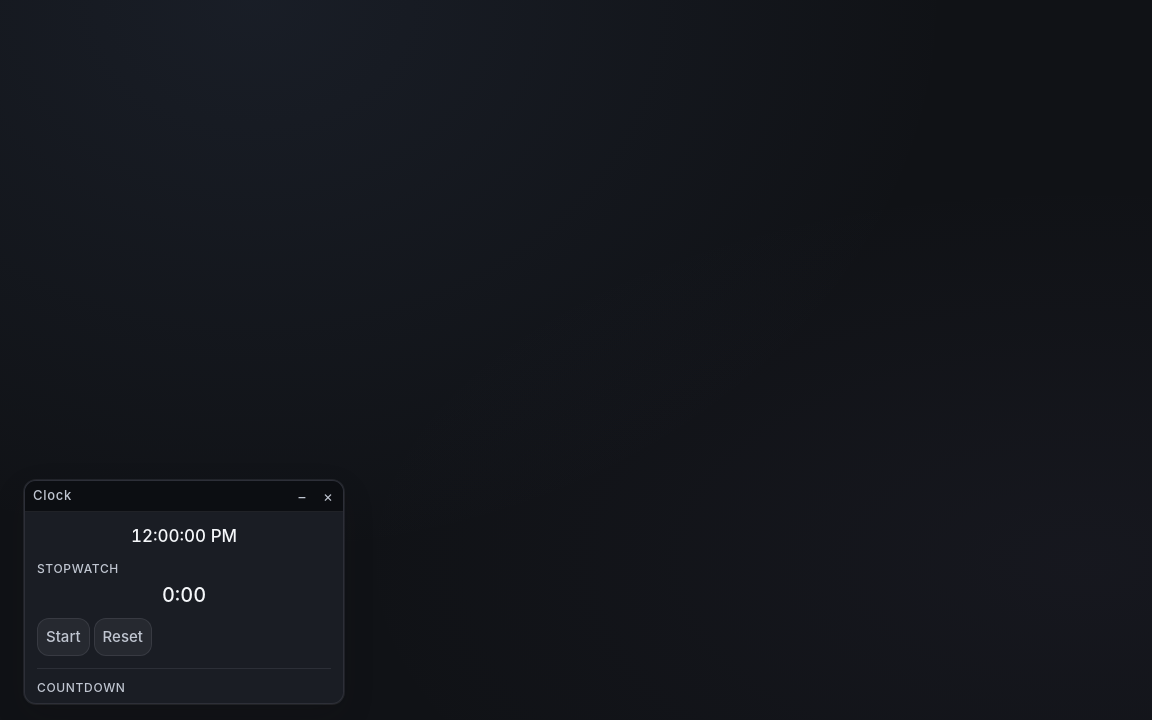
Test: ClockPanel — stopwatch › Start counts up, Pause freezes, Reset zeroes
The image size is (1152, 720).
Step 1. Click the button "Start" → click(63, 637), box [37,618,90,656]
Wait 5000 ms
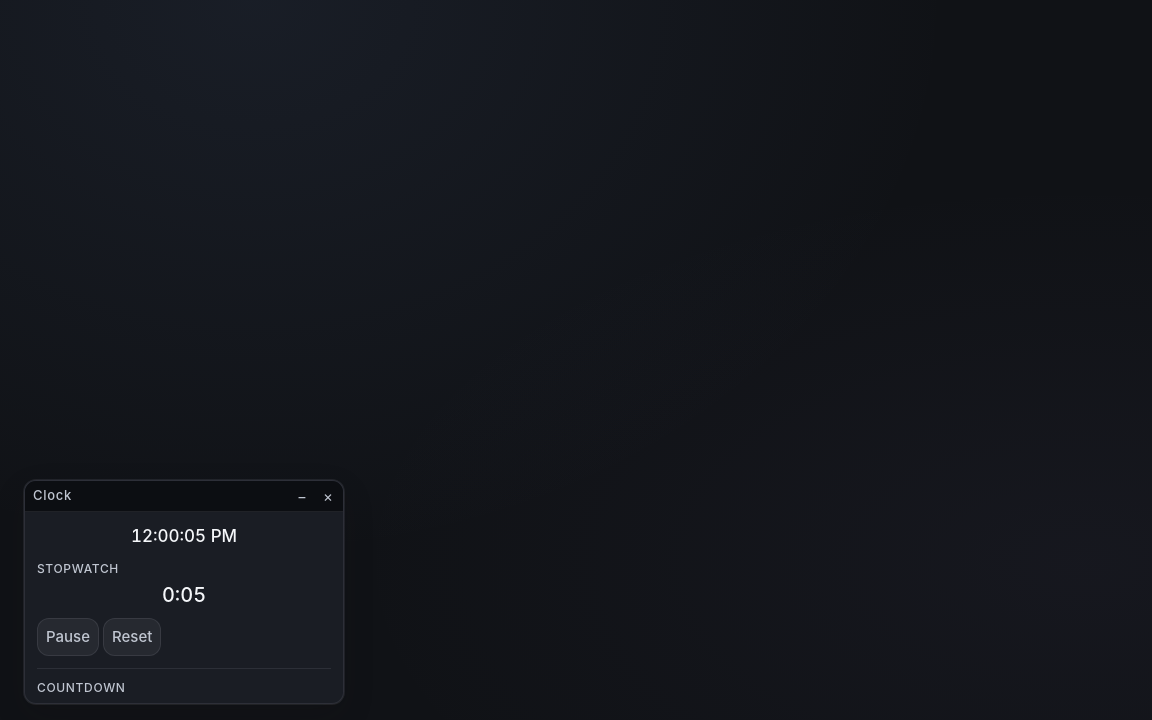
Expected: the text "0:05" is shown, [162,583,206,607]
Step 2. Click the button "Pause" → click(68, 637), box [37,618,99,656]
Wait 5000 ms
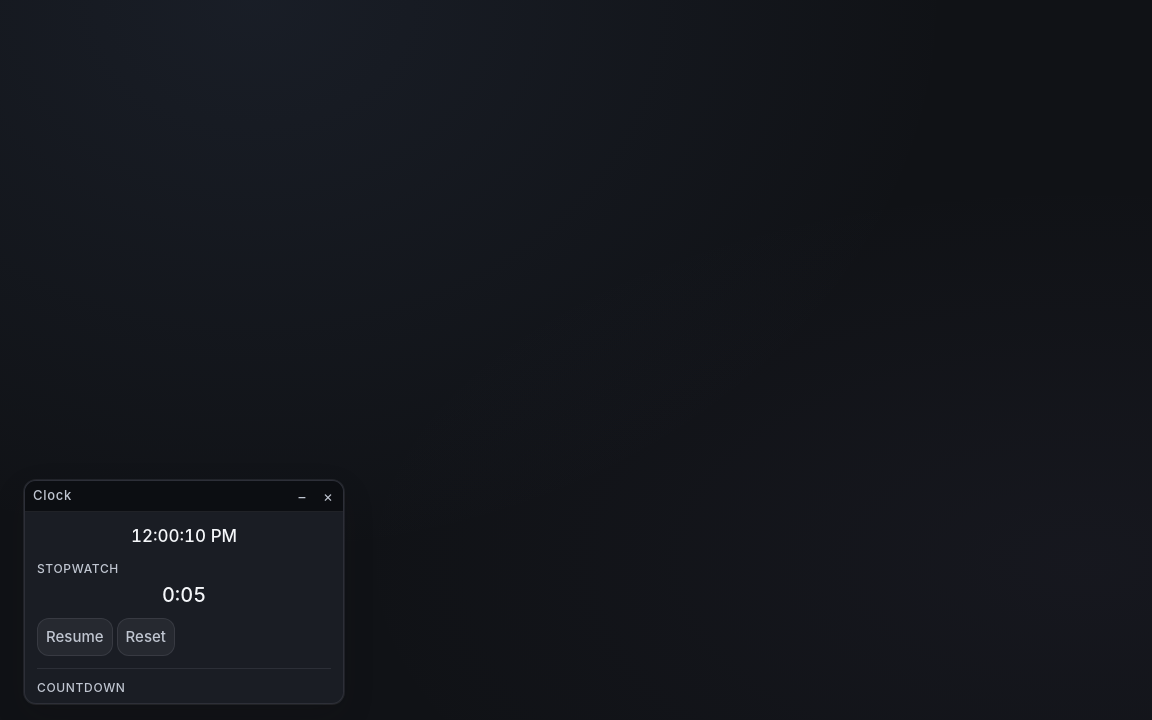
Expected: the text "0:05" is shown, [162,583,206,607]
Step 3. Click the button "Reset" → click(146, 637), box [117,618,175,656]
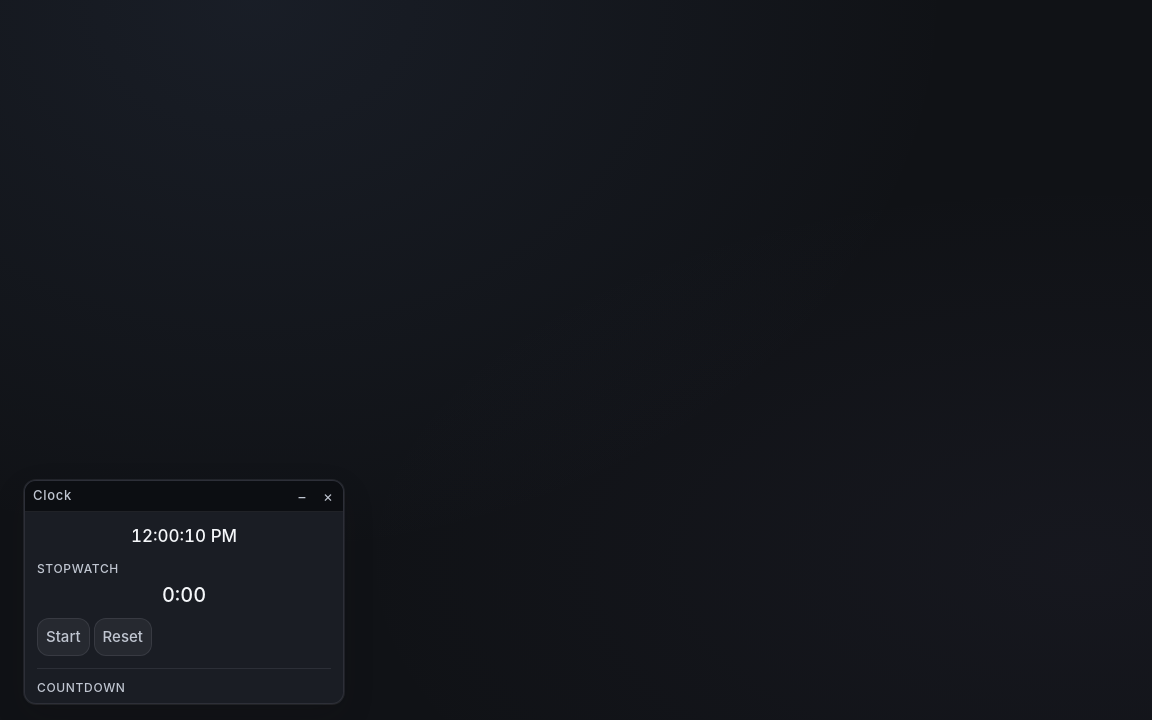
Expected: the text "0:00" is shown, [162,583,206,607]
